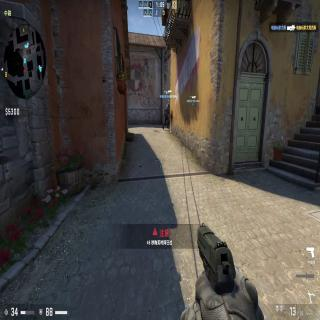CT-Body: (162, 103, 170, 130)
CT-Head: (167, 103, 170, 107)
